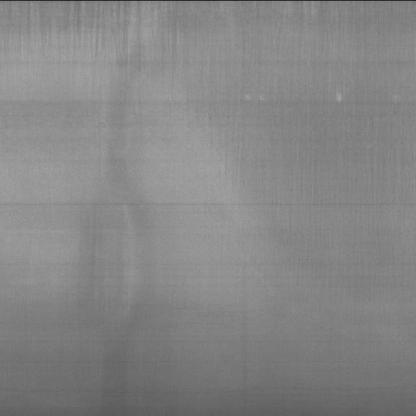waist_folding: (0, 1, 379, 66)
